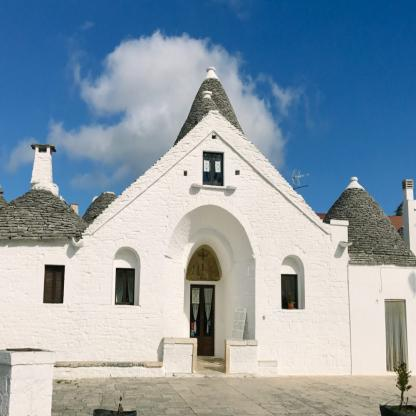Building Outline: (0, 67, 416, 379)
Dont: (0, 348, 57, 416), (379, 360, 416, 416), (231, 308, 247, 339)
Door: (190, 284, 215, 357), (384, 299, 409, 371)
Door Hole: (168, 205, 255, 373)
Facade: (0, 239, 416, 378)
Floor Slab: (126, 190, 303, 202)
Ground Floor: (0, 195, 416, 379)
Roof: (0, 143, 117, 239), (323, 176, 416, 267), (173, 67, 245, 147)
Top Floor: (144, 130, 286, 196)
Window: (43, 265, 65, 304), (115, 268, 135, 305), (203, 152, 223, 186), (281, 274, 298, 309)
Window Hole: (111, 246, 141, 306), (281, 255, 305, 309), (203, 150, 225, 186)
